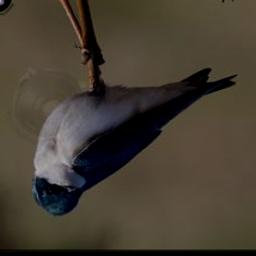Swallow: (31, 69, 240, 217)
